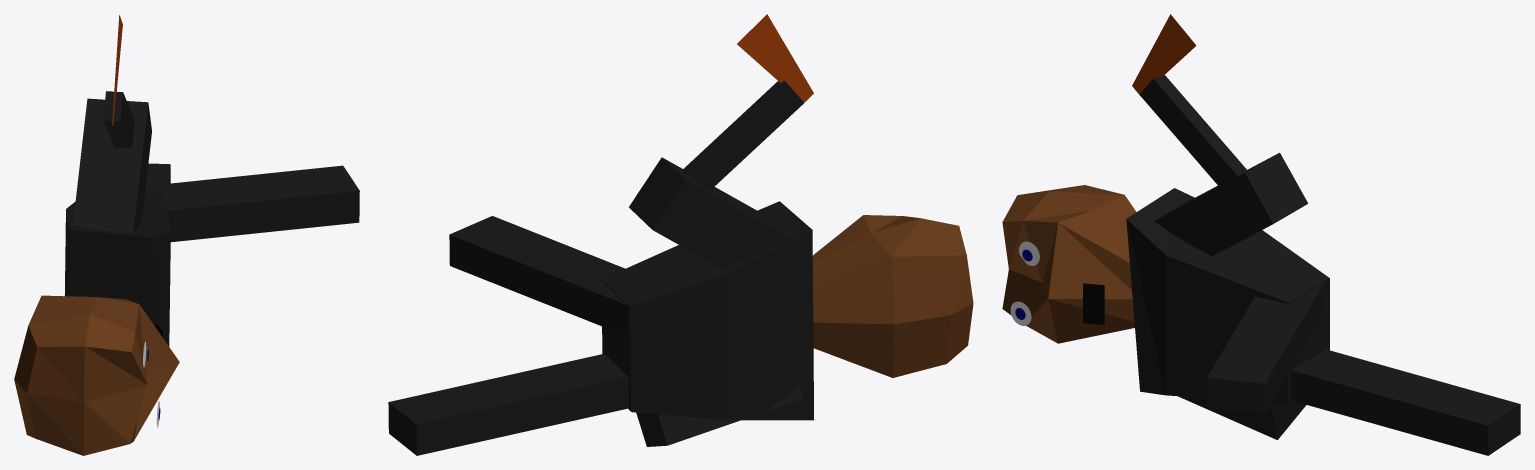
File: axeman3d.obj
3 views of the same model, side by side, from view 1: azimuth 30°, elevation 25°; view 2: azimuth 150°, elevation 25°; view 3: azimuth 270°, elevation 25° (orthographic). The views are drawn at different scales.
Parts seen in each view (by area): view 1: Cube, Cube.005, Cube.001, Cube.002, Cube.007, Cube.004, Plane.001; view 2: Cube.001, Cube, Cube.004, Cube.005, Cube.002, Cube.007, Plane.001, Cube.003; view 3: Cube.001, Cube, Cube.004, Cube.005, Cube.002, Cube.007, Plane.001, Cube.003, Plane.
Boxes of the visible parts, x1=… form: Cube: x1=14, y1=295, x2=179, y2=455; Cube.005: x1=145, y1=165, x2=359, y2=242; Cube.001: x1=64, y1=192, x2=170, y2=346; Cube.002: x1=73, y1=98, x2=151, y2=233; Cube.007: x1=103, y1=91, x2=134, y2=148; Cube.004: x1=146, y1=163, x2=170, y2=185; Plane.001: x1=112, y1=15, x2=122, y2=126; Cube.001: x1=601, y1=201, x2=814, y2=420; Cube: x1=812, y1=215, x2=973, y2=377; Cube.004: x1=388, y1=354, x2=628, y2=455; Cube.005: x1=449, y1=216, x2=626, y2=335; Cube.002: x1=629, y1=157, x2=790, y2=268; Cube.007: x1=682, y1=81, x2=804, y2=189; Plane.001: x1=737, y1=14, x2=813, y2=102; Cube.003: x1=636, y1=387, x2=802, y2=446; Cube.001: x1=1126, y1=188, x2=1329, y2=403; Cube: x1=1002, y1=185, x2=1136, y2=343; Cube.004: x1=1291, y1=349, x2=1520, y2=455; Cube.005: x1=1207, y1=282, x2=1324, y2=413; Cube.002: x1=1154, y1=152, x2=1307, y2=256; Cube.007: x1=1140, y1=75, x2=1247, y2=186; Plane.001: x1=1132, y1=14, x2=1196, y2=96; Cube.003: x1=1178, y1=396, x2=1306, y2=439; Plane: x1=1083, y1=283, x2=1104, y2=324.
Size of the model in its own units: 4.83 by 4.51 by 5.36.
